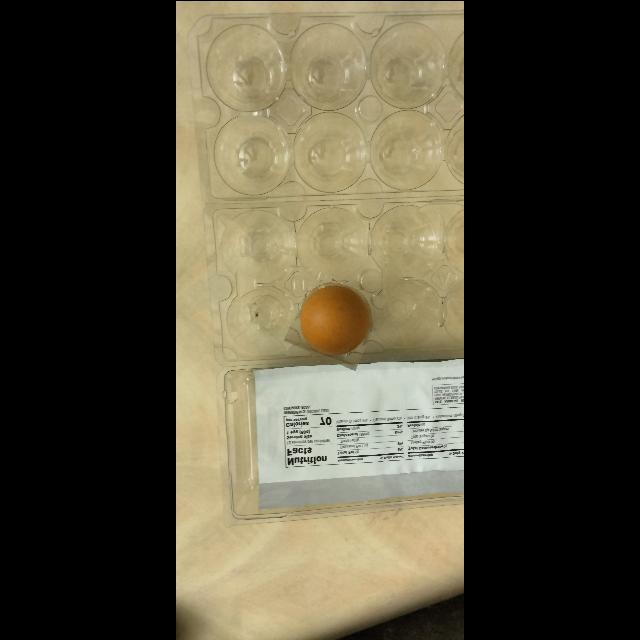Egg: (290, 274, 380, 364)
